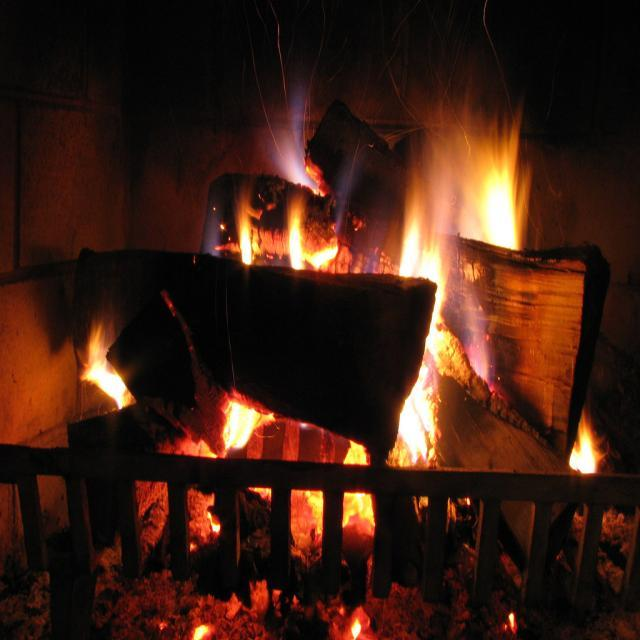Fire: (481, 167, 516, 249), (398, 404, 433, 456), (227, 412, 257, 448), (92, 361, 122, 396)
